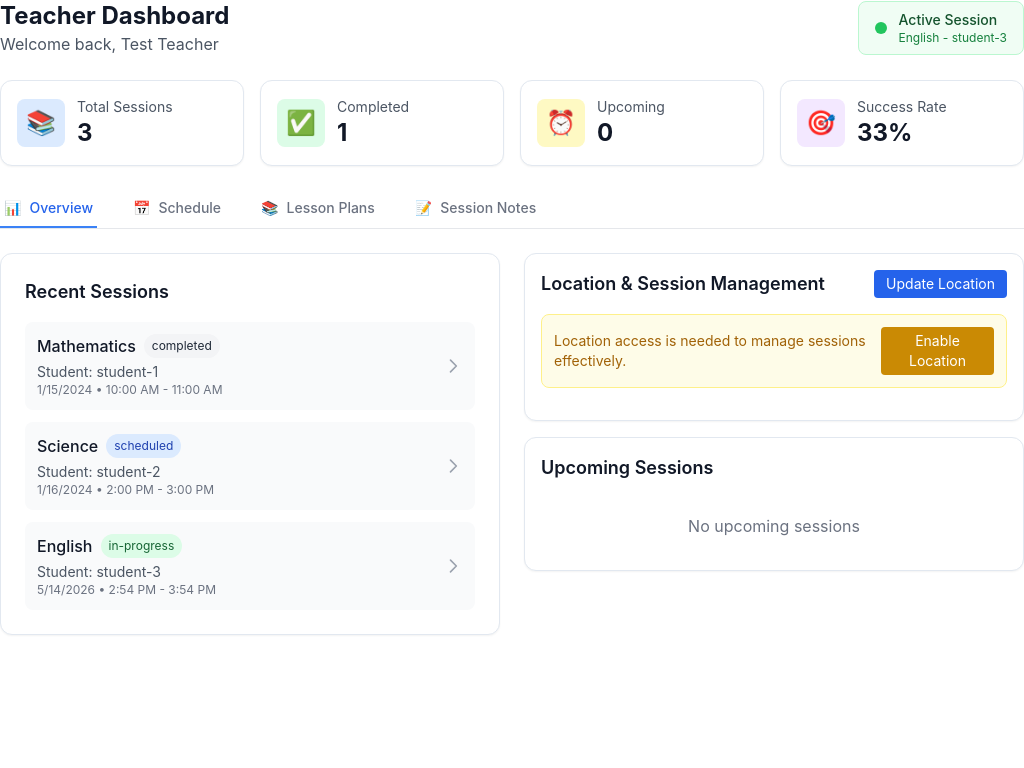
Test case: TeacherDashboard › opens session details modal when clicking on a session in overview
This screenshot has width=1024, height=768.
Expected: the heading "Recent Sessions" is shown, [25,281,169,302]
// Click on a session
What coordinates should you click on to do the following:
click the heading "Mathematics"
I would click on:
 (86, 346)
Its box is [37,334,136,358].
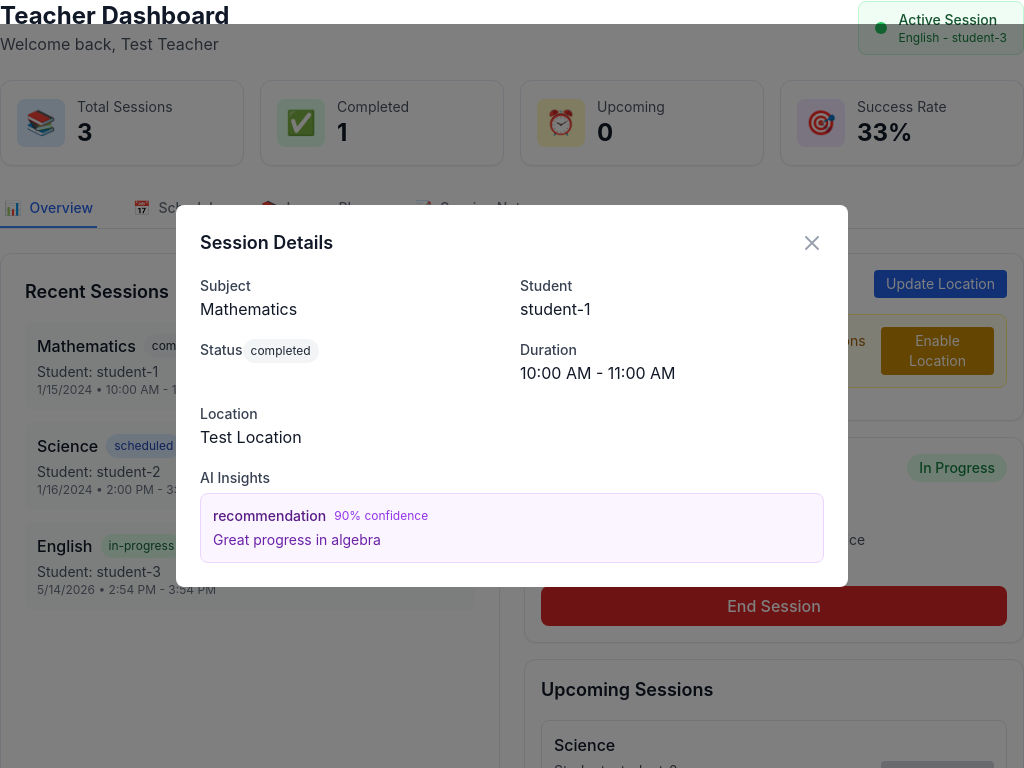
Expected: the text "Student: student-1" is shown, [37,363,158,380]
Now the heading "Session Details" is shown, box [200,229,333,257]
Now the text "Great progress in algebra" is shown, box [213,531,381,548]
